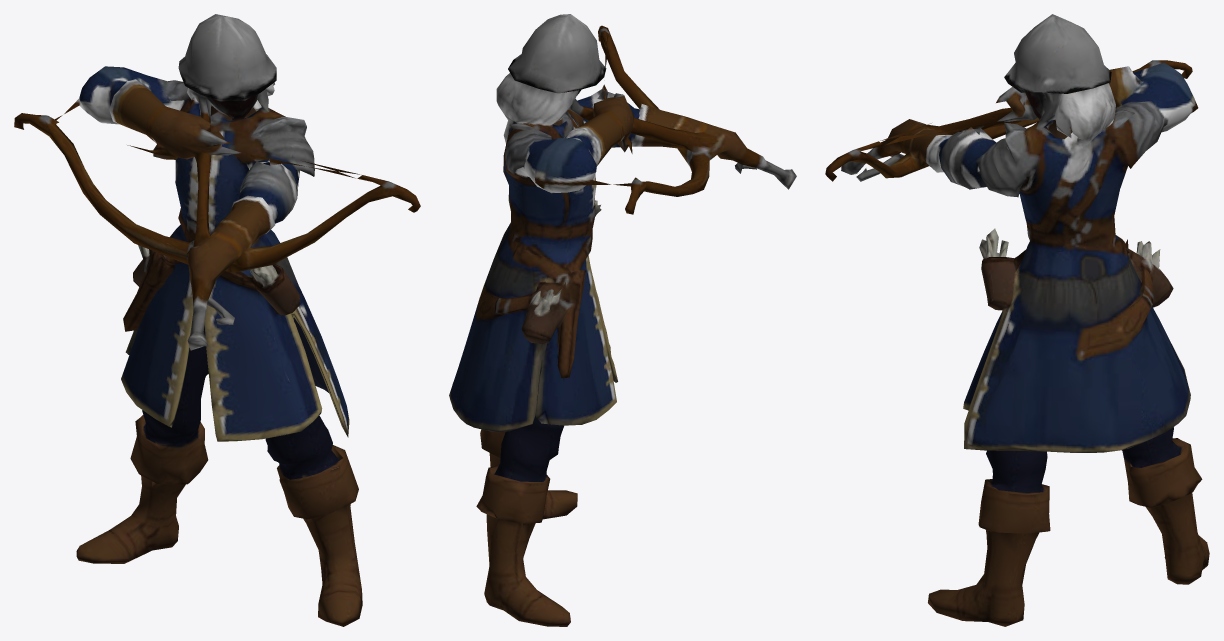
File: crossbowmen_strike.glb
3 renders of one model, left to right at view 1: azimuth 30°, elevation 25°; view 2: azimuth 150°, elevation 25°; view 3: azimuth 270°, elevation 25°, orthographic. The views are drawn at different scales.
Parts seen in each view (by area): view 1: world; view 2: world; view 3: world.
Boxes of the visible parts, x1,y1,x2,y2 form: world: (14,14,420,626); world: (449,14,796,626); world: (825,14,1209,626).
Size of the model in its own units: 0.4444 by 0.9986 by 0.615.
Materials: 1 (1 with a texture image).
